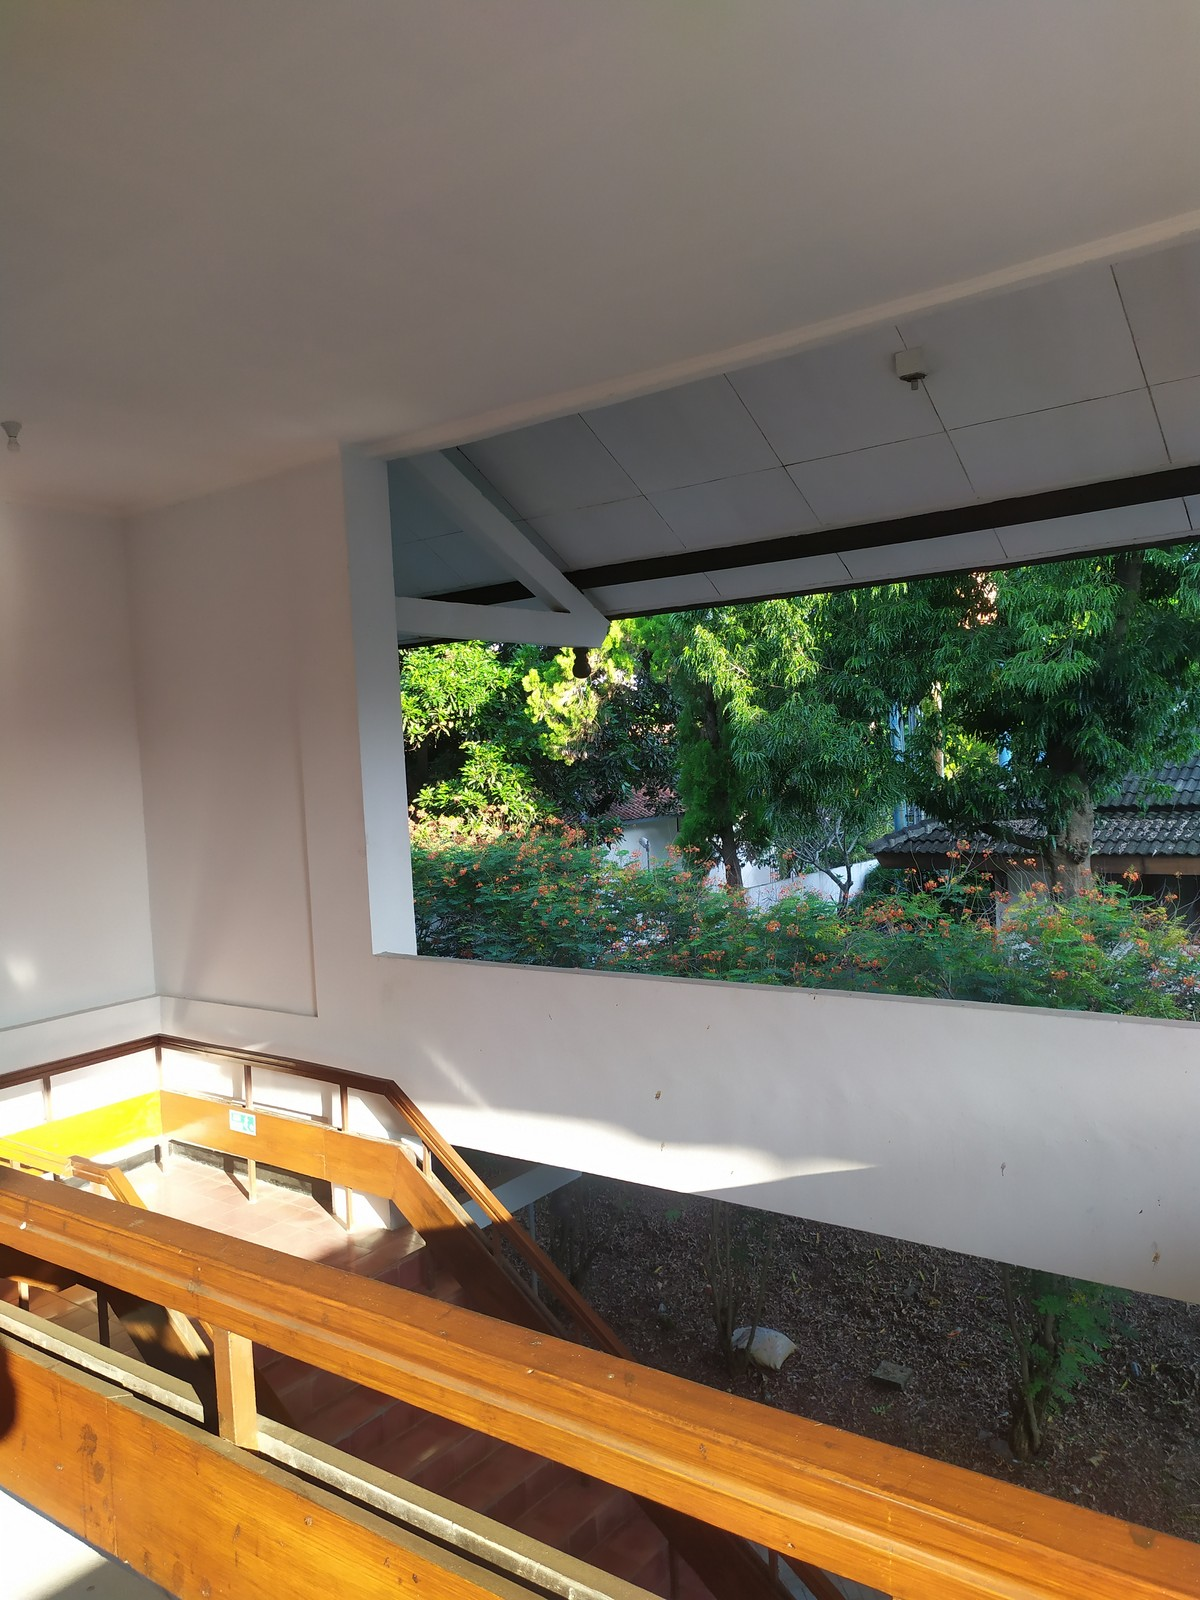concrete column: (270, 430, 422, 1022)
